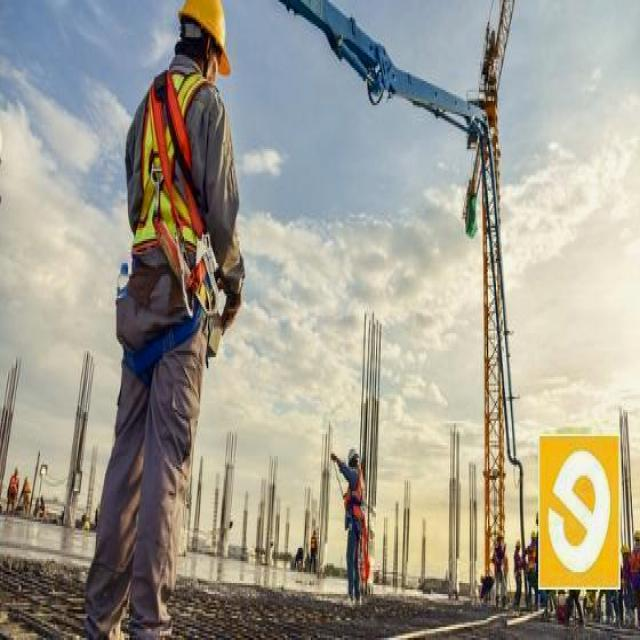head_helmet: (179, 2, 232, 75)
person: (94, 2, 251, 638), (337, 438, 374, 598)
vest: (116, 72, 230, 292)
